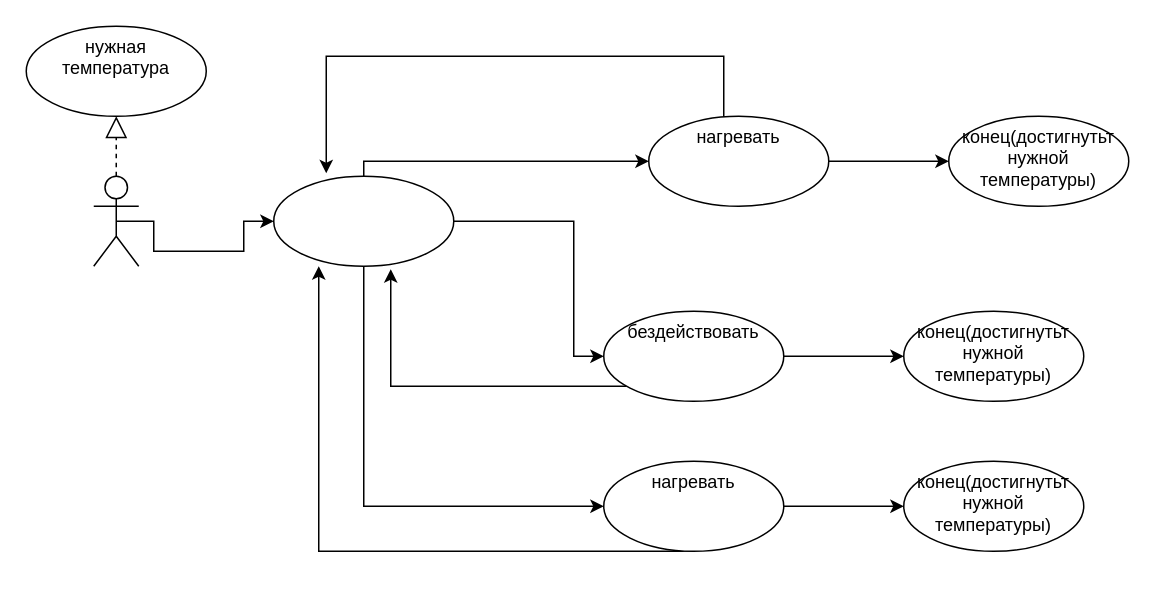
The diagram is 1155 pixels wide and 590 high, and some of its shapes have lost their labels. Each missing label, with the centre of its shape:
"kond" belongs at (x=115, y=220).
"работа дачика" belongs at (x=363, y=220).
